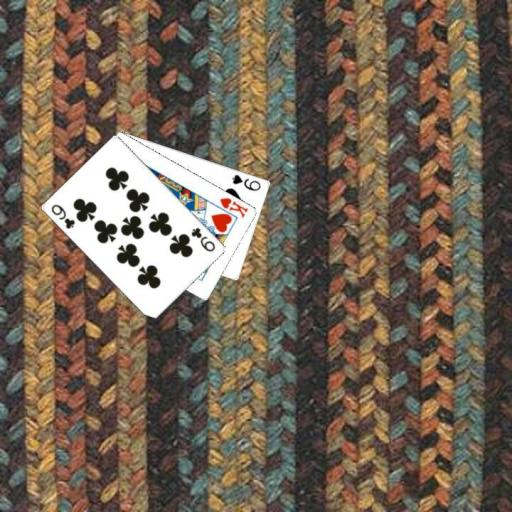9C: (188, 224, 217, 253), (48, 202, 77, 231)
9S: (229, 171, 262, 192)
KH: (217, 194, 249, 219)
